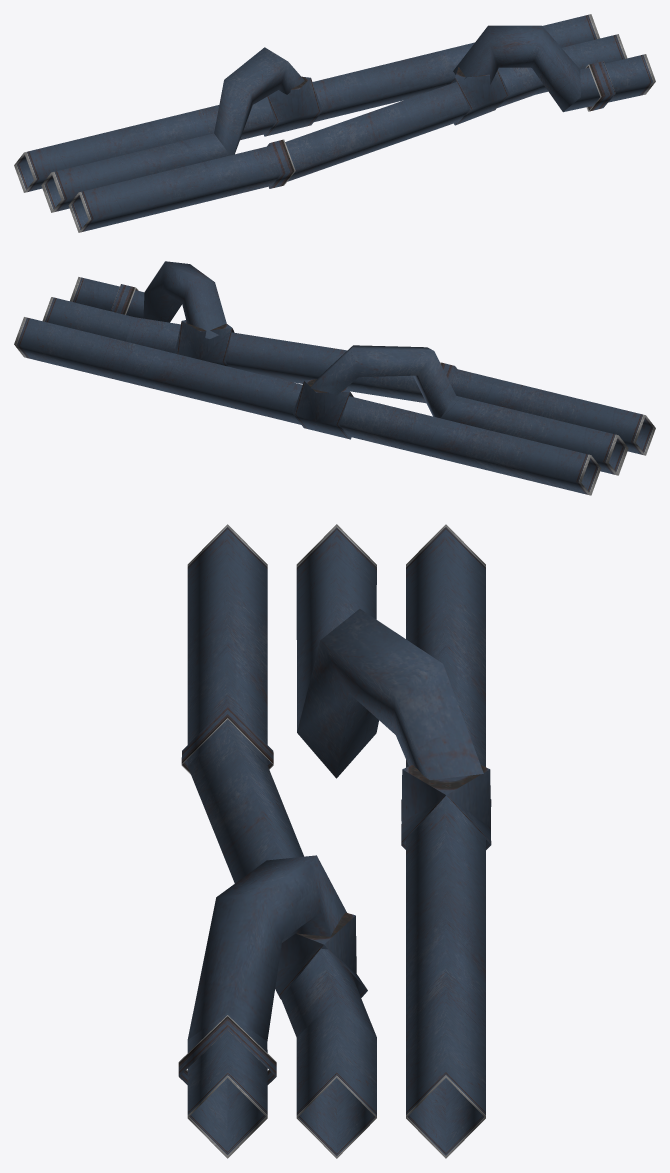
File: Pipe3_E_L2.fbx
3 renders of one model, top to bottom at view 1: azimuth 30°, elevation 25°; view 2: azimuth 150°, elevation 25°; view 3: azimuth 270°, elevation 25°, orthographic. The views are drawn at different scales.
Visible parts, largest first — view 1: PIpe3_E_L2; view 2: PIpe3_E_L2; view 3: PIpe3_E_L2.
Part boxes in pixels (x1,y1,x2,y2): PIpe3_E_L2: (14, 14, 655, 232); PIpe3_E_L2: (14, 261, 655, 495); PIpe3_E_L2: (178, 524, 491, 1158).
Size of the model in its own units: 200 by 30.67 by 47.69.
